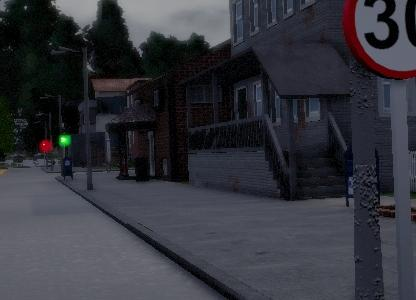Speed_30: (340, 0, 416, 86)
